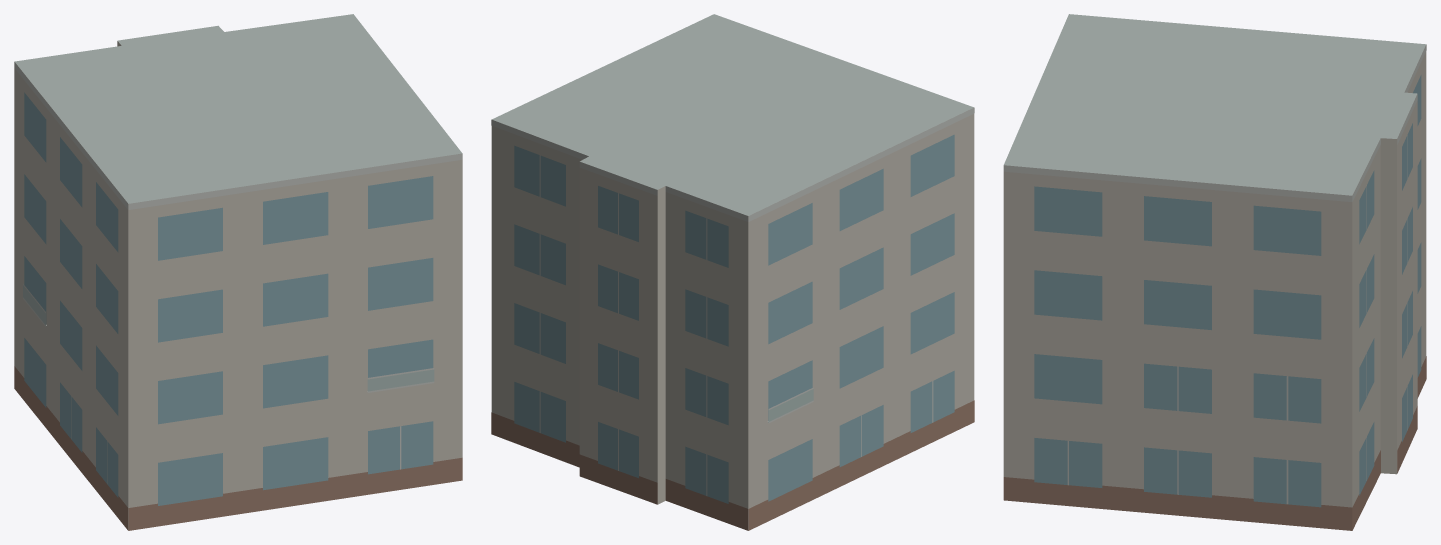
File: survey-upis-32851589.glb
The picture shows the model from 3 angles, left to right: view 1: azimuth 30°, elevation 25°; view 2: azimuth 150°, elevation 25°; view 3: azimuth 270°, elevation 25°; orthographic projection. The views are drawn at different scales.
Parts seen in each view (by area): view 1: survey-upis-32851589.tmp; view 2: survey-upis-32851589.tmp; view 3: survey-upis-32851589.tmp.
Part boxes in pixels (x1=…): survey-upis-32851589.tmp: x1=14, y1=14, x2=462, y2=530; survey-upis-32851589.tmp: x1=491, y1=14, x2=974, y2=530; survey-upis-32851589.tmp: x1=1003, y1=14, x2=1426, y2=530.
Size of the model in its own units: 14.78 by 12.7 by 14.53.
